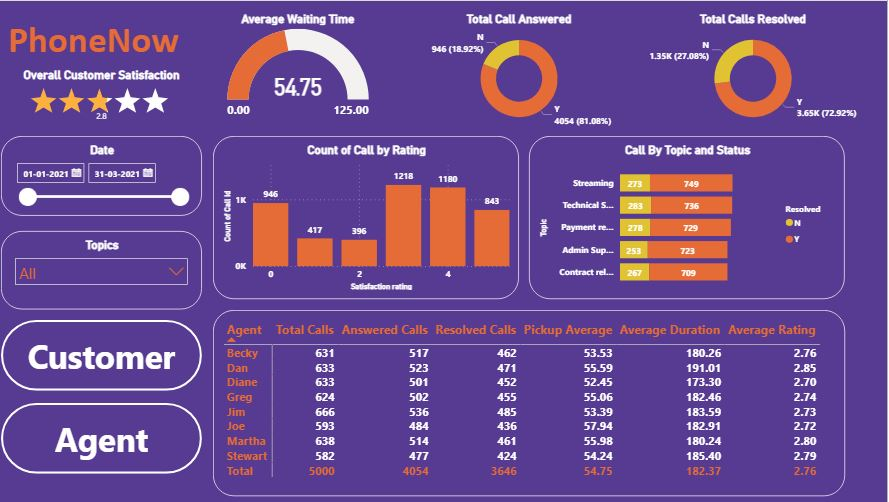

The page's visual inventory and layout, read from the dashboard file:
{"tool":"powerbi","page":{"name":"Agent","canvas":[1280,720],"ordinal":1},"visuals":[{"type":"PBI_CV_9053509D_D461_463A_B485_CE9F6AB0F13D","title":"Overall Customer Satisfaction","fields":{"value":["Avg(Sheet1.Satisfaction rating)"]},"box":[12.9,95.7,287.1,90],"z":0},{"type":"textbox","box":[12.5,16.6,265,79.1],"z":1000},{"type":"gauge","title":"Average  Waiting Time ","fields":{"Y":["Avg(Sheet1.Speed of answer in seconds)"]},"box":[316.3,15.3,242.8,160.9],"z":2000},{"type":"slicer","title":"Date","fields":{"Values":["Sheet1.Date"]},"box":[12.5,192.8,287.2,113.8],"z":3000},{"type":"slicer","title":"Topics","fields":{"Values":["Sheet1.Topic"]},"box":[12.5,328.8,287.2,112.4],"z":4000},{"type":"donutChart","title":"Total Call Answered","fields":{"Y":["CountNonNull(Sheet1.Answered (Y/N))"],"Category":["Sheet1.Answered (Y/N)"]},"box":[589.6,15.3,326,170.6],"z":5000},{"type":"donutChart","title":"Total Calls Resolved","fields":{"Y":["CountNonNull(Sheet1.Resolved)"],"Category":["Sheet1.Resolved"]},"box":[915.6,15.3,342.7,170.6],"z":6000},{"type":"actionButton","box":[12.9,455.7,287.1,101.4],"z":8000},{"type":"actionButton","box":[12.9,574.3,287.1,101.4],"z":9000},{"type":"pivotTable","fields":{"Rows":["Sheet1.Agent"],"Values":["CountNonNull(Sheet1.Call Id)","Sum(Sheet1.Answered (Y/N) - Copy)","Sum(Sheet1.Resolved - Copy)","Avg(Sheet1.Speed of answer in seconds)","Avg(Sheet1.Avg talk duration in seconds)","Avg(Sheet1.Satisfaction rating)"]},"box":[315.7,441.4,902.9,265.7],"z":10000},{"type":"columnChart","title":"Count of Call by Rating","fields":{"Category":["Sheet1.Satisfaction rating"],"Y":["CountNonNull(Sheet1.Call Id)"]},"box":[315.7,192.9,437.1,232.9],"z":11000},{"type":"barChart","title":"Call By Topic and Status","fields":{"Category":["Sheet1.Topic"],"Y":["CountNonNull(Sheet1.Resolved)"],"Series":["Sheet1.Resolved"]},"box":[767.1,192.9,451.4,232.9],"z":12000}]}

Visuals, with their boxes in screenshot pixels (x1, y1, x2, y2), scaled from the page's 1280x720 canvas onto the 889x502 screenshot:
"Overall Customer Satisfaction" PBI_CV_9053509D_D461_463A_B485_CE9F6AB0F13D: box=[9, 67, 208, 129]
textbox: box=[9, 12, 193, 67]
"Average  Waiting Time " gauge: box=[220, 11, 388, 123]
"Date" slicer: box=[9, 134, 208, 214]
"Topics" slicer: box=[9, 229, 208, 308]
"Total Call Answered" donutChart: box=[409, 11, 636, 130]
"Total Calls Resolved" donutChart: box=[636, 11, 874, 130]
actionButton: box=[9, 318, 208, 388]
actionButton: box=[9, 400, 208, 471]
pivotTable - Sheet1.Agent x CountNonNull(Sheet1.Call Id): box=[219, 308, 846, 493]
"Count of Call by Rating" columnChart: box=[219, 134, 523, 297]
"Call By Topic and Status" barChart: box=[533, 134, 846, 297]
